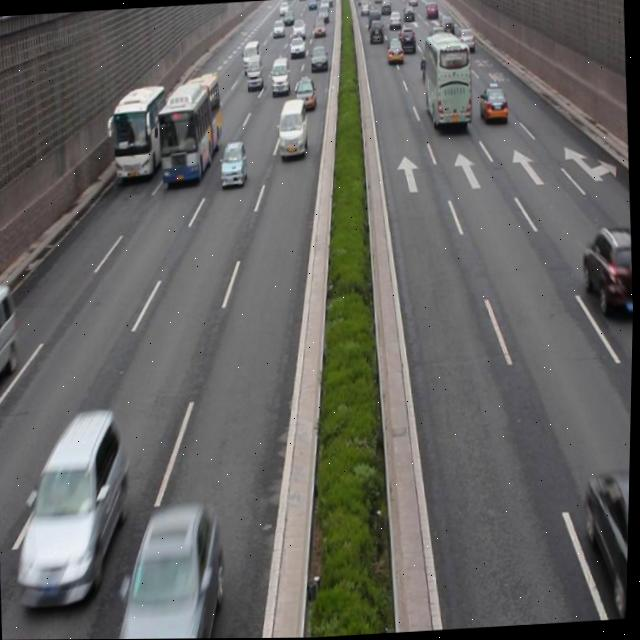car: (11, 409, 136, 614), (118, 503, 230, 639), (585, 472, 632, 609), (578, 224, 636, 321), (219, 140, 249, 192), (479, 85, 507, 126)
truck: (0, 283, 23, 400), (276, 99, 310, 165)
van: (154, 76, 227, 188), (111, 87, 169, 182), (420, 32, 474, 130)
